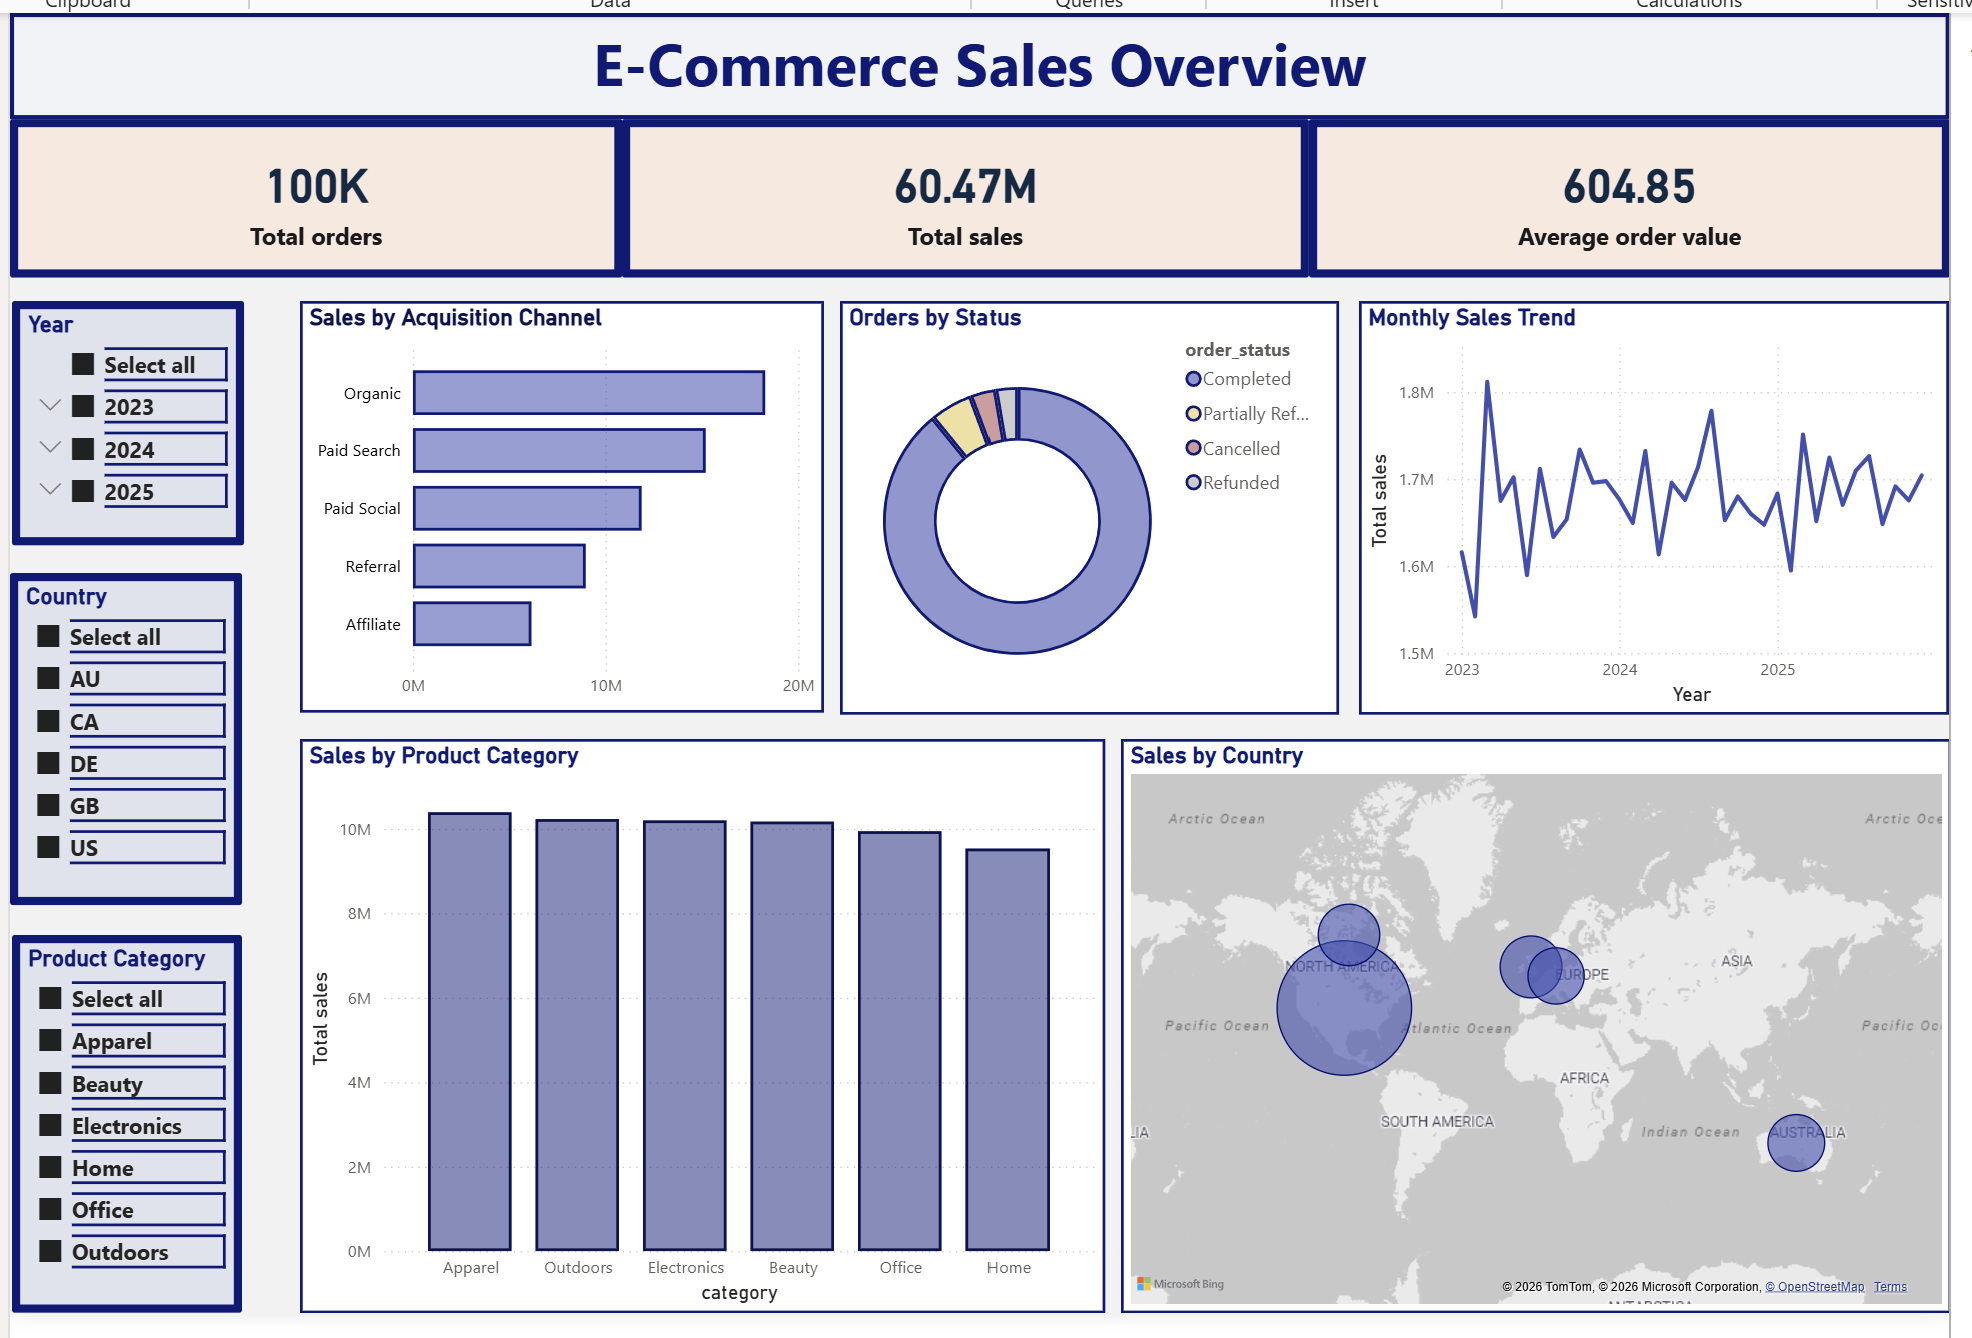

Layout of this report page (visuals, bound fields, positions):
{"tool":"powerbi","page":{"name":"E-Commerce Sales Overview","canvas":[1424,955],"ordinal":0},"visuals":[{"type":"card","fields":{"Values":["order_items.Total sales"]},"box":[449.8,78,503.8,116.4],"z":0},{"type":"card","fields":{"Values":["orders.Total orders"]},"box":[0,78,449.8,116.4],"z":1000},{"type":"card","fields":{"Values":["orders.Average order value"]},"box":[953.6,78,471.1,116.4],"z":2000},{"type":"lineChart","title":"Monthly Sales Trend","fields":{"Category":["orders.ordered_at.Variation.Date Hierarchy.Year","orders.ordered_at.Variation.Date Hierarchy.Month"],"Y":["order_items.Total sales"]},"box":[990.5,211.6,433.5,304.2],"z":3000},{"type":"clusteredColumnChart","title":"Sales by Product Category","fields":{"Category":["products.category"],"Y":["order_items.Total sales"]},"box":[213.1,533.4,590.8,421.8],"z":4000},{"type":"map","title":"Sales by Country","fields":{"Category":["customers.country_code"],"Size":["order_items.Total sales"]},"box":[815.6,533.4,609.9,421.8],"z":5000},{"type":"donutChart","title":"Orders by Status","fields":{"Category":["orders.order_status"],"Y":["CountNonNull(orders.order_id)"]},"box":[609.9,211.6,365.9,304.2],"z":6000},{"type":"textbox","box":[0,0,1424.7,78],"z":7000},{"type":"barChart","title":"Sales by Acquisition Channel","fields":{"Y":["order_items.Total sales"],"Category":["customers.acquisition_channel"]},"box":[213.1,211.6,385,302.7],"z":8000},{"type":"slicer","title":"Year","fields":{"Values":["orders.ordered_at.Variation.Date Hierarchy.Year","orders.ordered_at.Variation.Date Hierarchy.Quarter","orders.ordered_at.Variation.Date Hierarchy.Month","orders.ordered_at.Variation.Date Hierarchy.Day"]},"box":[1.5,211.6,170.5,179.3],"z":9000},{"type":"slicer","title":"Country","fields":{"Values":["customers.country_code"]},"box":[0,411.5,170.5,243.9],"z":10000},{"type":"slicer","title":"Product Category","fields":{"Values":["products.category"]},"box":[1.5,677.5,169,277.7],"z":11000}]}

Visuals, with their boxes in screenshot pixels (x1, y1, x2, y2):
card - order_items.Total sales: box=[619, 112, 1307, 271]
card - orders.Total orders: box=[5, 112, 619, 271]
card - orders.Average order value: box=[1307, 112, 1951, 271]
"Monthly Sales Trend" lineChart: box=[1358, 294, 1950, 710]
"Sales by Product Category" clusteredColumnChart: box=[296, 734, 1103, 1310]
"Sales by Country" map: box=[1119, 734, 1952, 1310]
"Orders by Status" donutChart: box=[838, 294, 1338, 710]
textbox: box=[5, 5, 1951, 112]
"Sales by Acquisition Channel" barChart: box=[296, 294, 822, 708]
"Year" slicer: box=[7, 294, 240, 539]
"Country" slicer: box=[5, 567, 238, 900]
"Product Category" slicer: box=[7, 930, 238, 1310]
